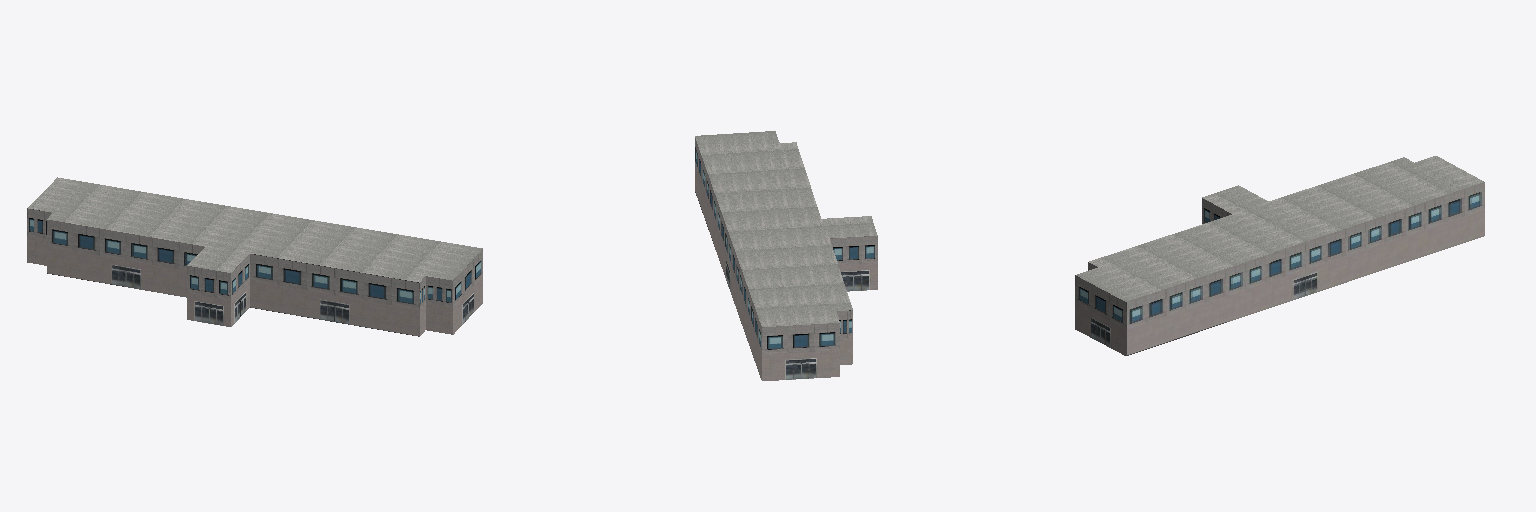
The picture shows the model from 3 angles: view 1: azimuth 30°, elevation 25°; view 2: azimuth 150°, elevation 25°; view 3: azimuth 270°, elevation 25°; orthographic projection.
Visible parts, largest first — view 1: BuildingMaster_[number redacted]_0, BuildingMaster_[number redacted]_1; view 2: BuildingMaster_[number redacted]_1, BuildingMaster_[number redacted]_0; view 3: BuildingMaster_[number redacted]_0, BuildingMaster_[number redacted]_1.
Part boxes in pixels (left/top/right/bottom): BuildingMaster_[number redacted]_0: left=27, top=208, right=482, bottom=336; BuildingMaster_[number redacted]_1: left=28, top=177, right=482, bottom=282; BuildingMaster_[number redacted]_1: left=695, top=131, right=877, bottom=326; BuildingMaster_[number redacted]_0: left=695, top=138, right=877, bottom=380; BuildingMaster_[number redacted]_0: left=1075, top=182, right=1484, bottom=355; BuildingMaster_[number redacted]_1: left=1076, top=156, right=1483, bottom=301.
Size of the model in its own units: 40.67 by 7 by 47.95.
Materials: 2 (2 with a texture image).